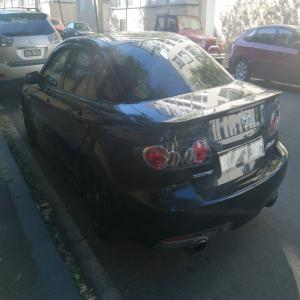Vehicle-registration-plate: (220, 139, 265, 173), (25, 48, 42, 59)
